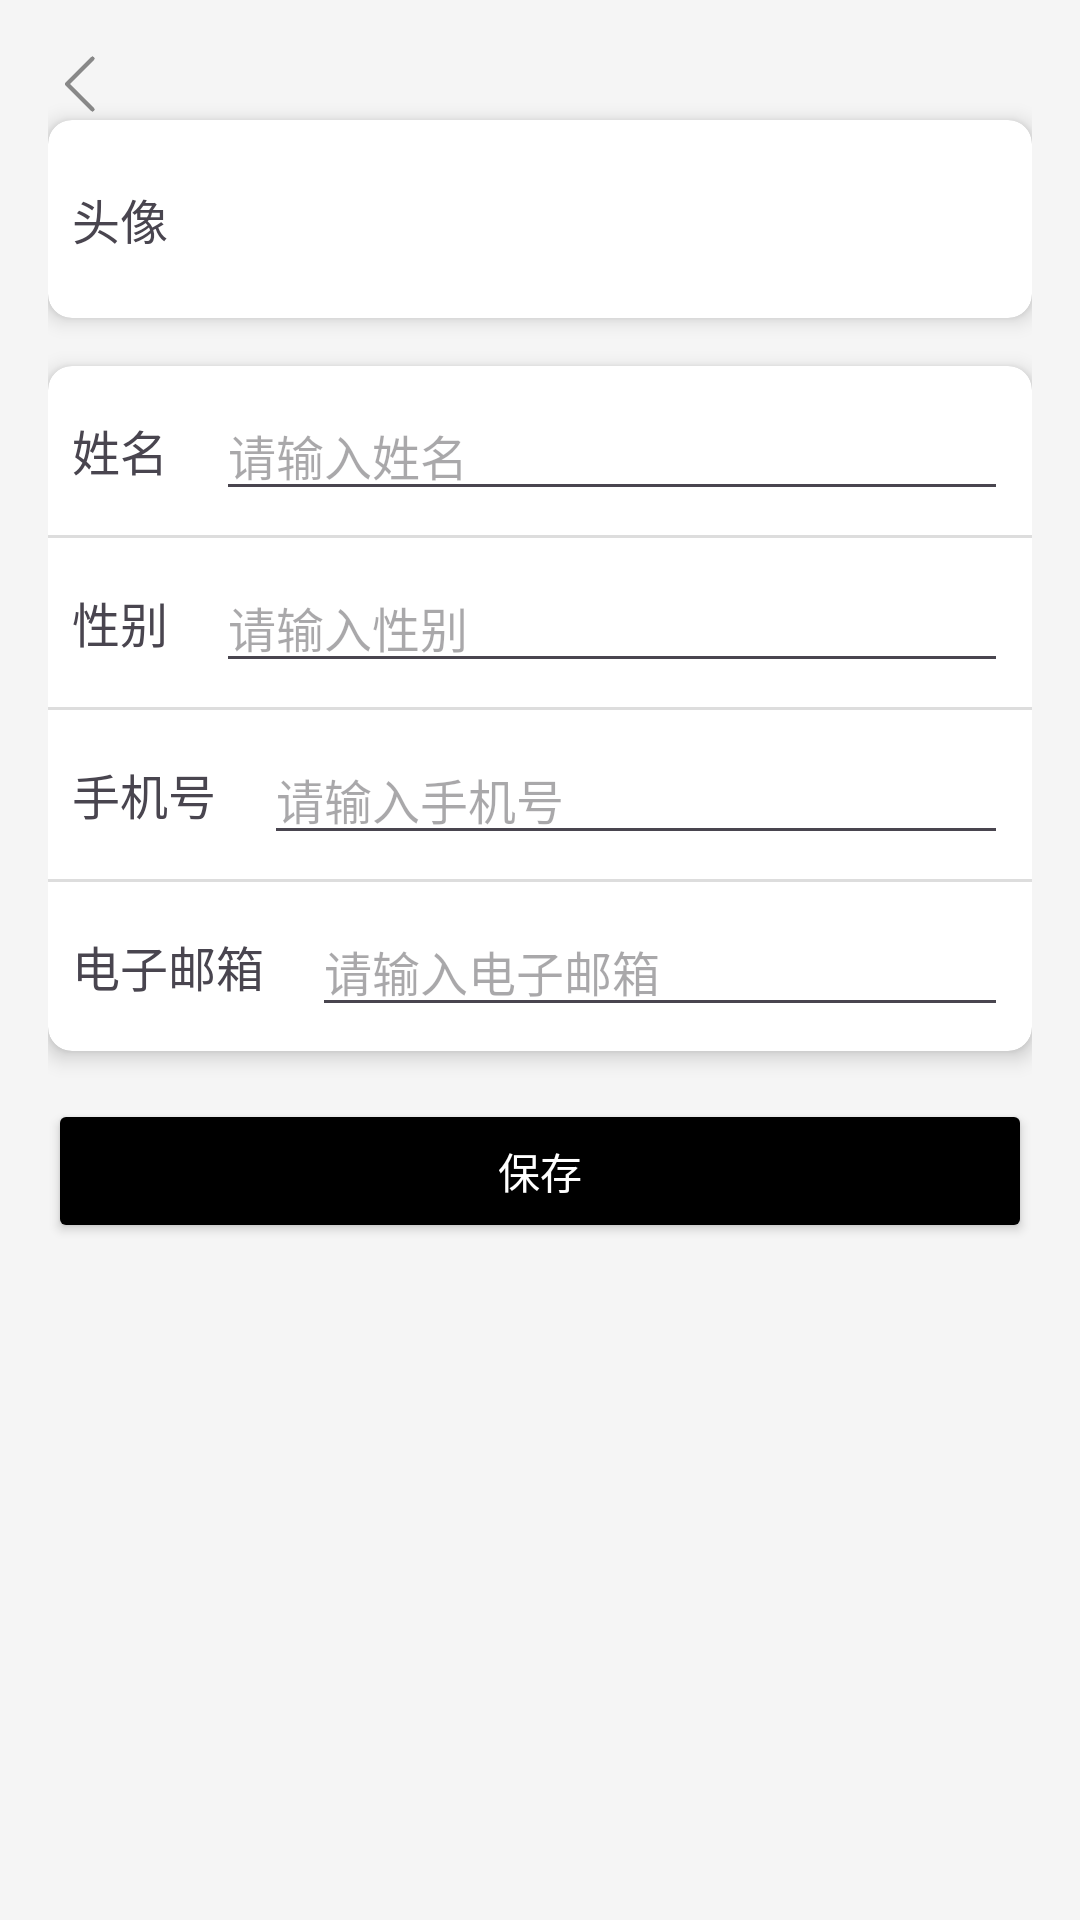

Icon click points for this 1080x1920 phone screenshot, format point (x, y):
返回: point (80, 84)
